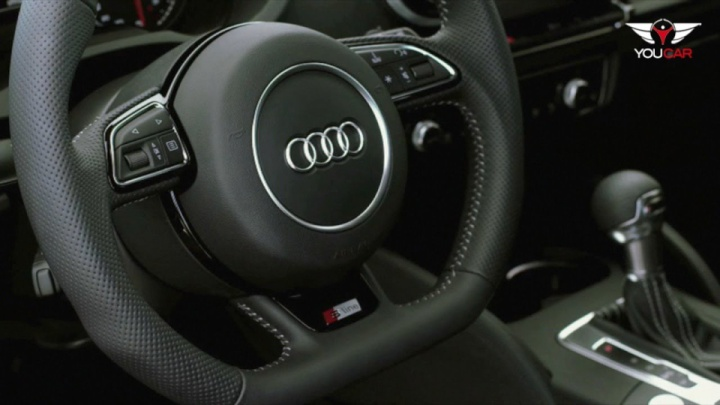audi: (281, 114, 369, 178)
